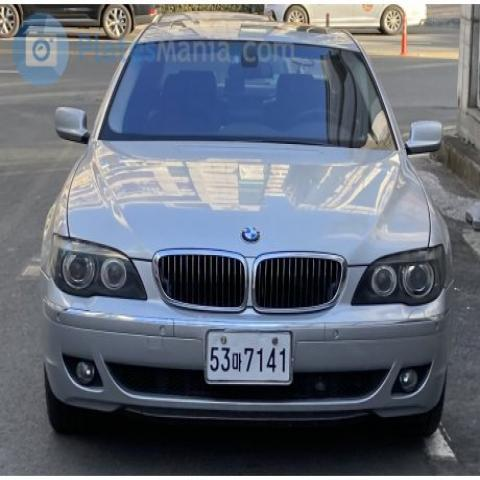LP: (192, 323, 304, 390)
